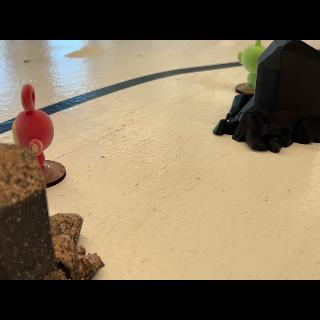teletubby: (12, 84, 54, 170), (238, 40, 266, 90)
